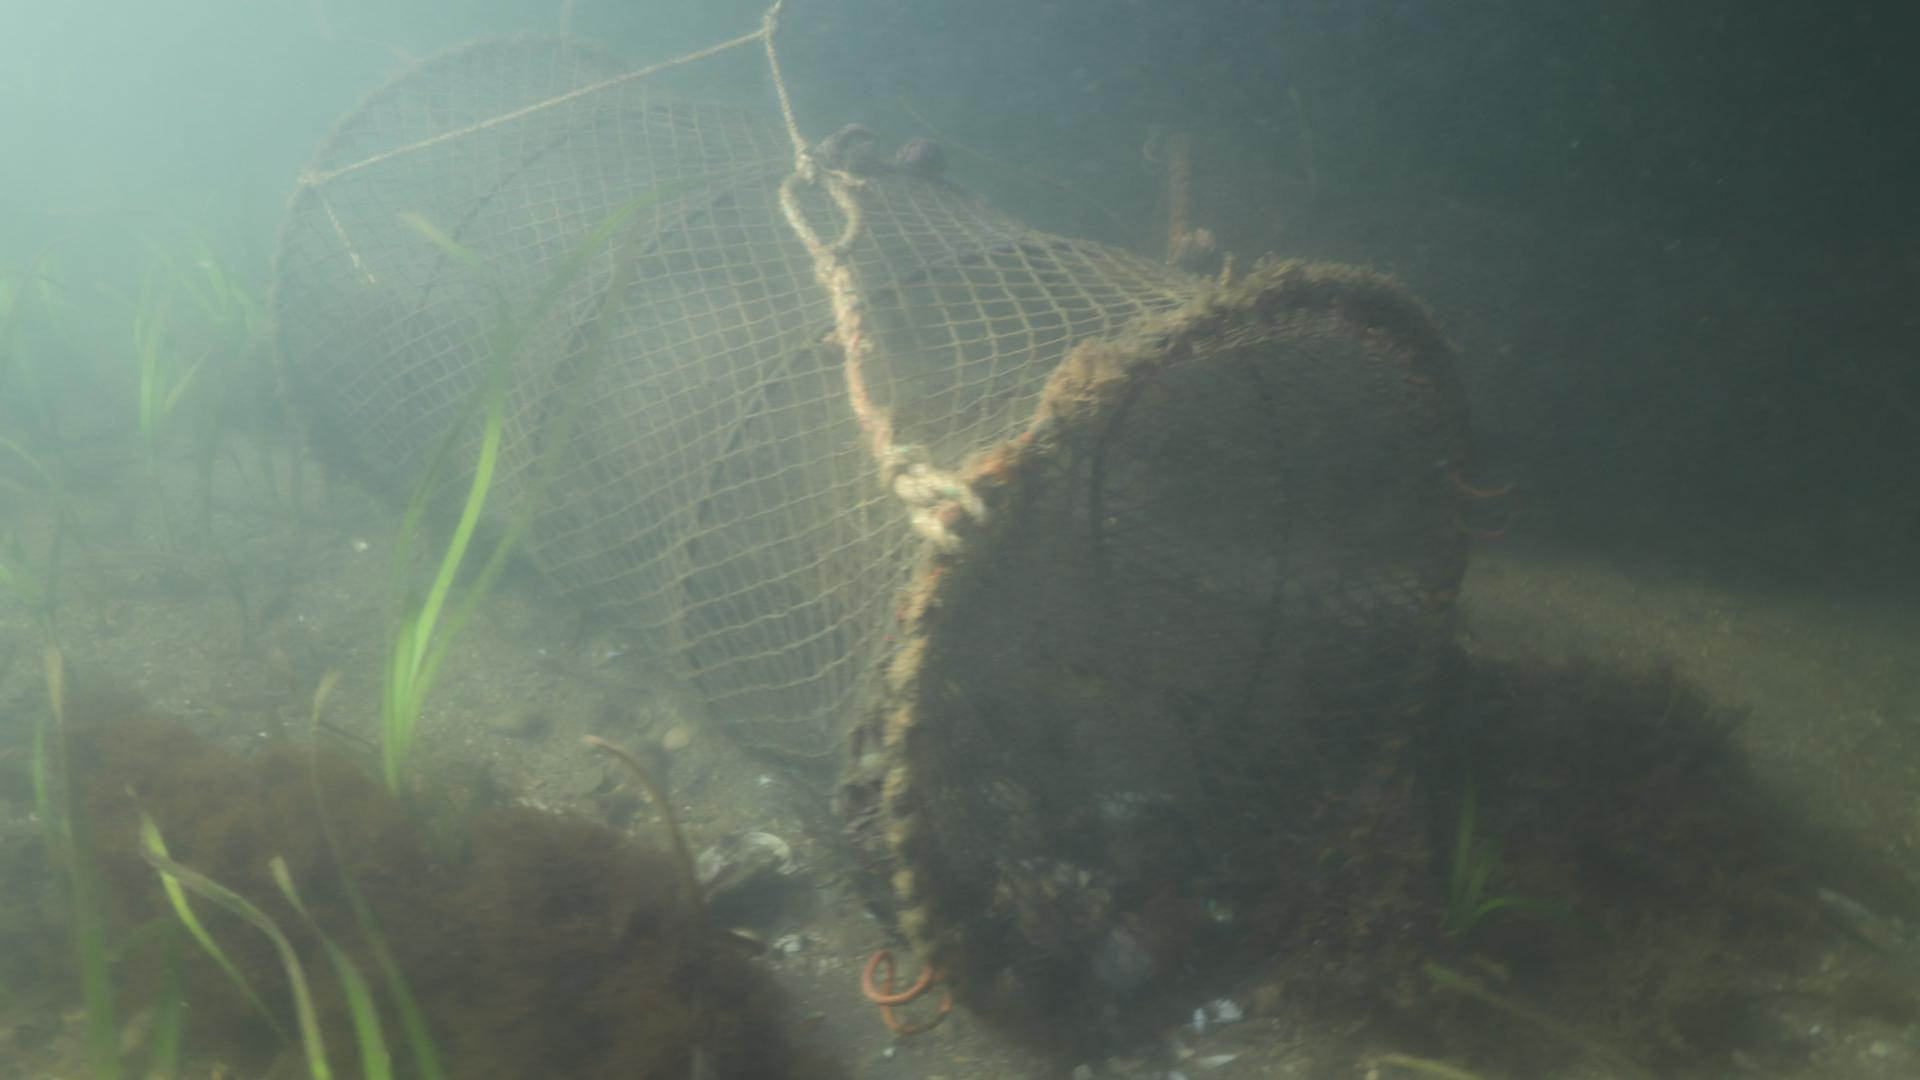bundle of ropes: (289, 0, 992, 556)
spring fish trap: (266, 26, 1477, 1073)
